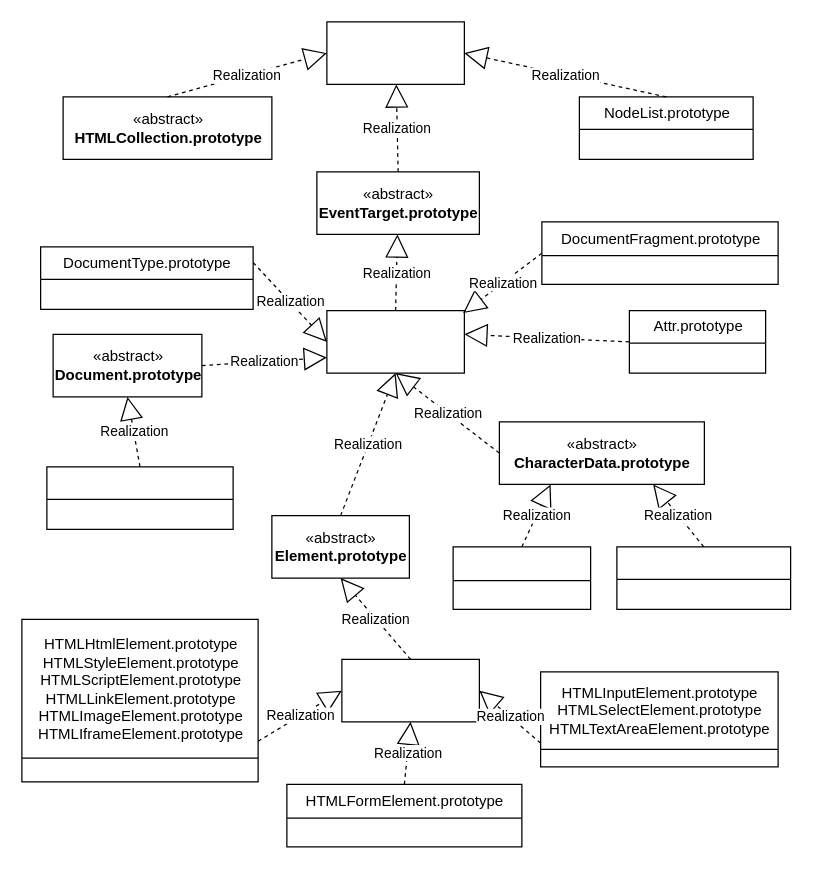
This 813x869 diagram has some shape labels left out. The centre of each missing label's shape, as x and y in pixels:
Comment.prototype: the point at 703,577
HTMLDocument.prototype: the point at 139,497
Text.prototype: the point at 521,577
«abstract» HTML Element: the point at 410,690
«abstract» Node.prototype: the point at 395,341
«abstract» Object.prototype: the point at 395,52
